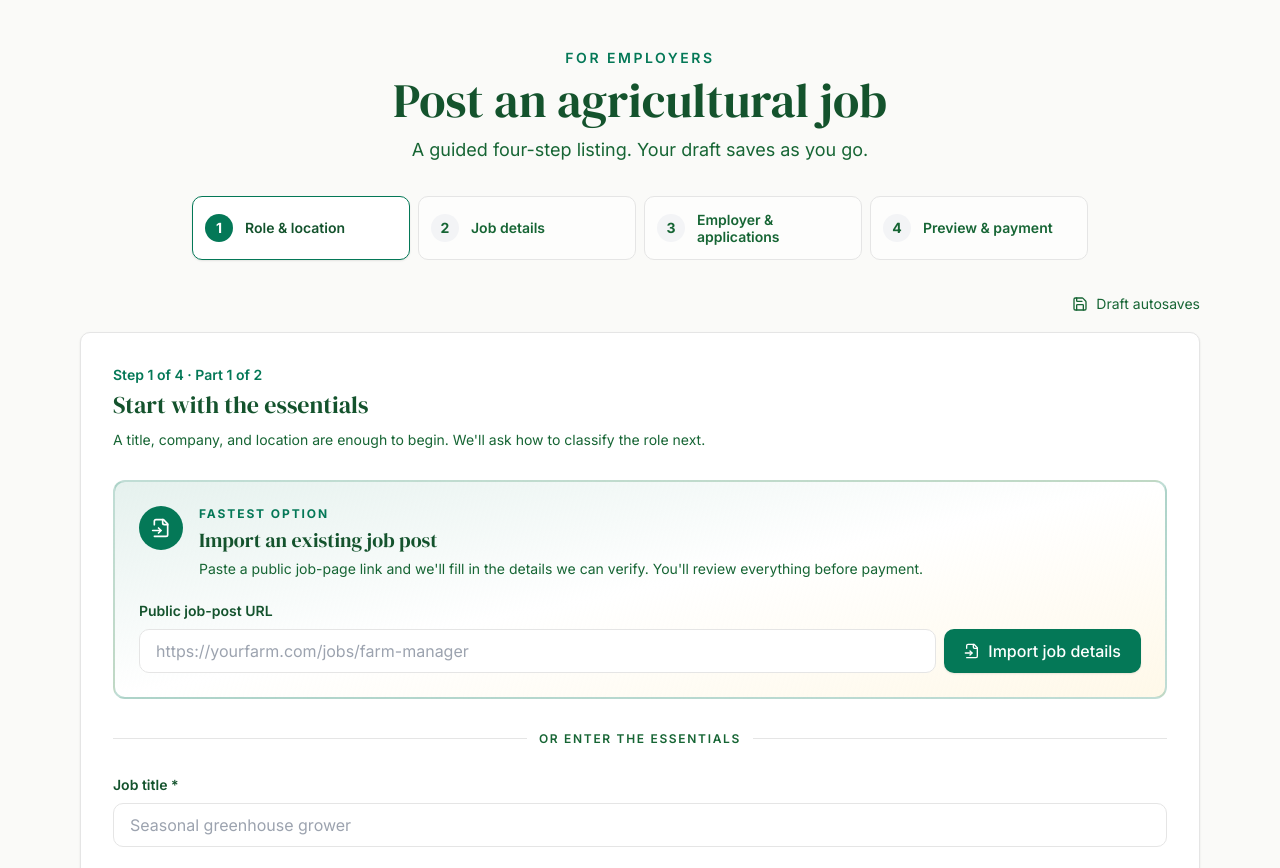
it: PostJobWizard progressive role step › measures a failed import with only its status code
The width and height of the screenshot is (1280, 868).
Expected: the heading "Start with the essentials" is shown, [113,389,368,421]
In the field labelled "Public job-post URL": (538, 650) [139,628,936,672], type "https://example.com/job"
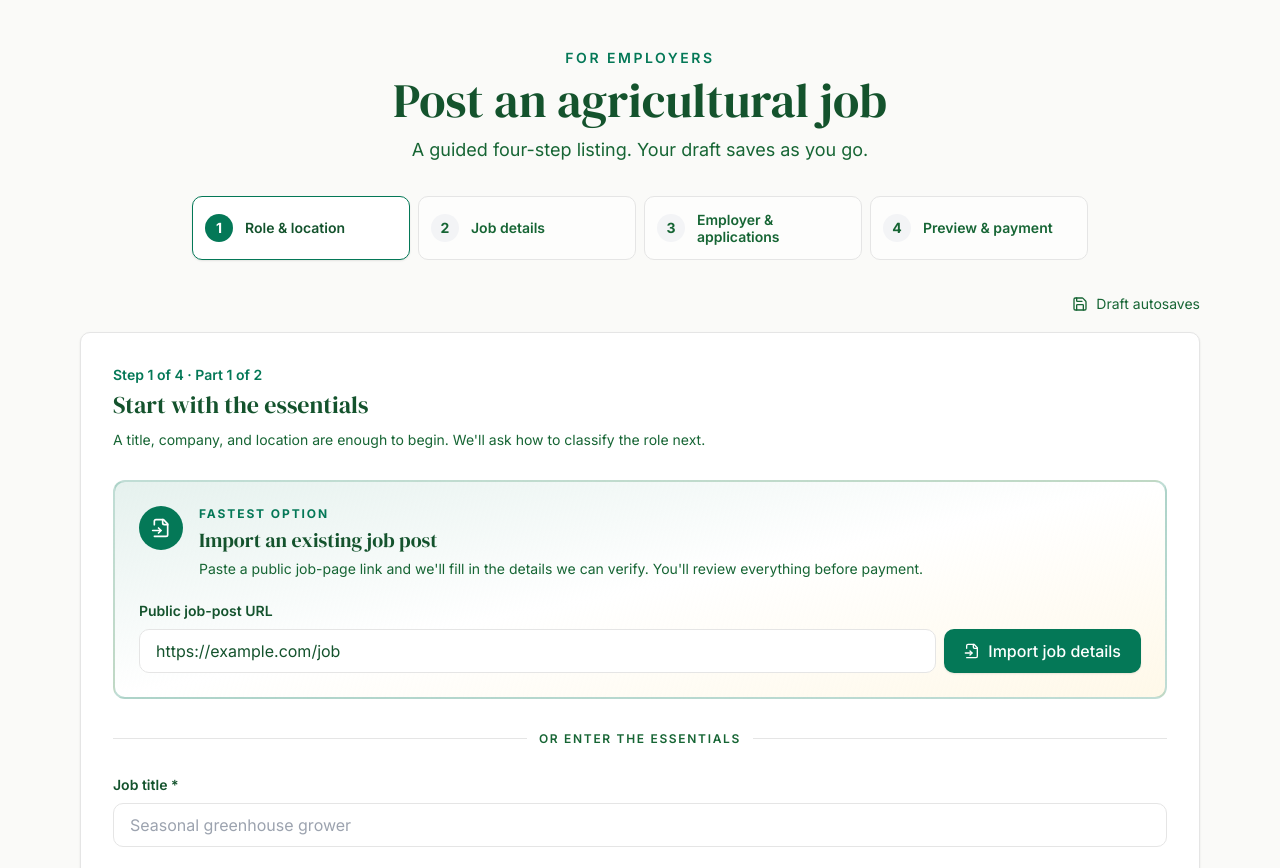
Click the button "Import job details": click(1043, 650) [944,628,1141,672]
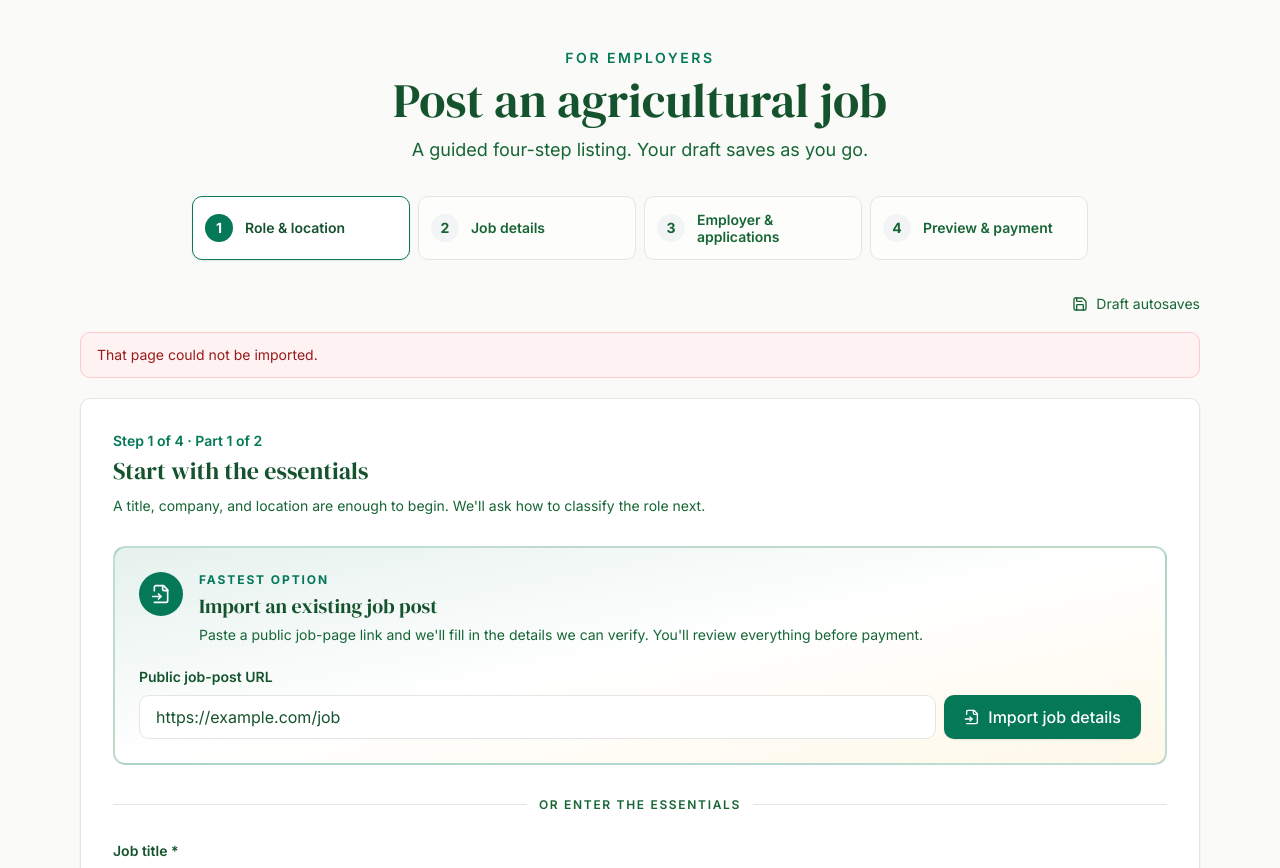
Expected: the message reads "That page could not be imported.", [97,346,318,363]
